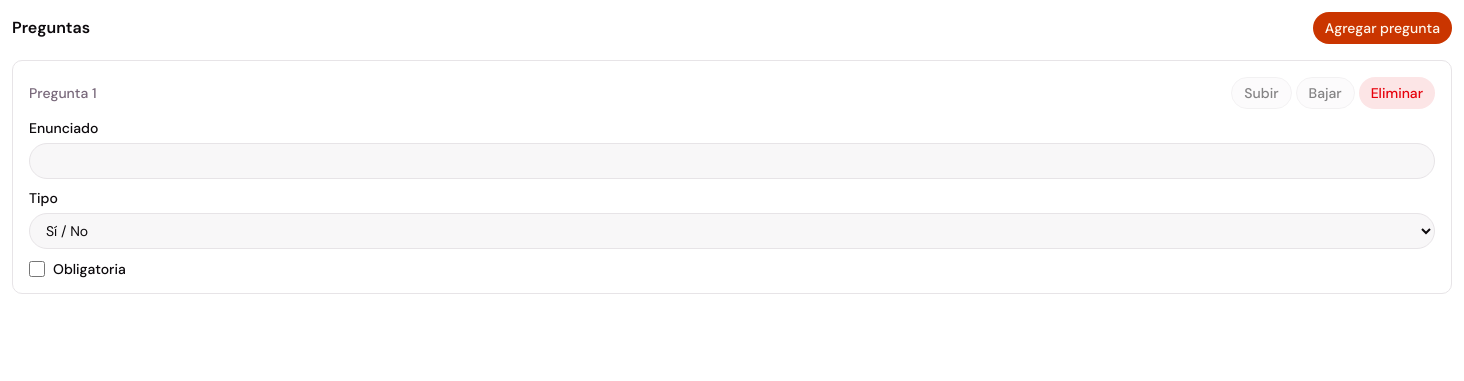
Scenario: QuestionBuilder — 11 configuraciones de tipo › scale expone mínimo, máximo y paso con valores por defecto válidos
The width and height of the screenshot is (1464, 381).
Select "Escala" in the dropdown labelled "Tipo": (732, 231) [29,213,1435,249]
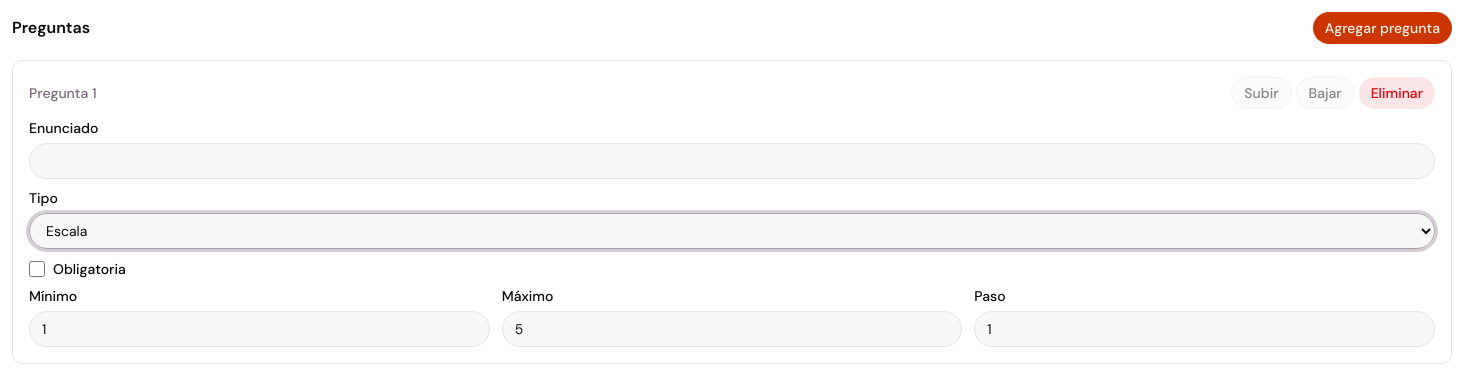
Expected: the number field labelled "Mínimo" holds "1", [29,311,490,347]
Expected: the number field labelled "Máximo" holds "5", [502,311,962,347]
